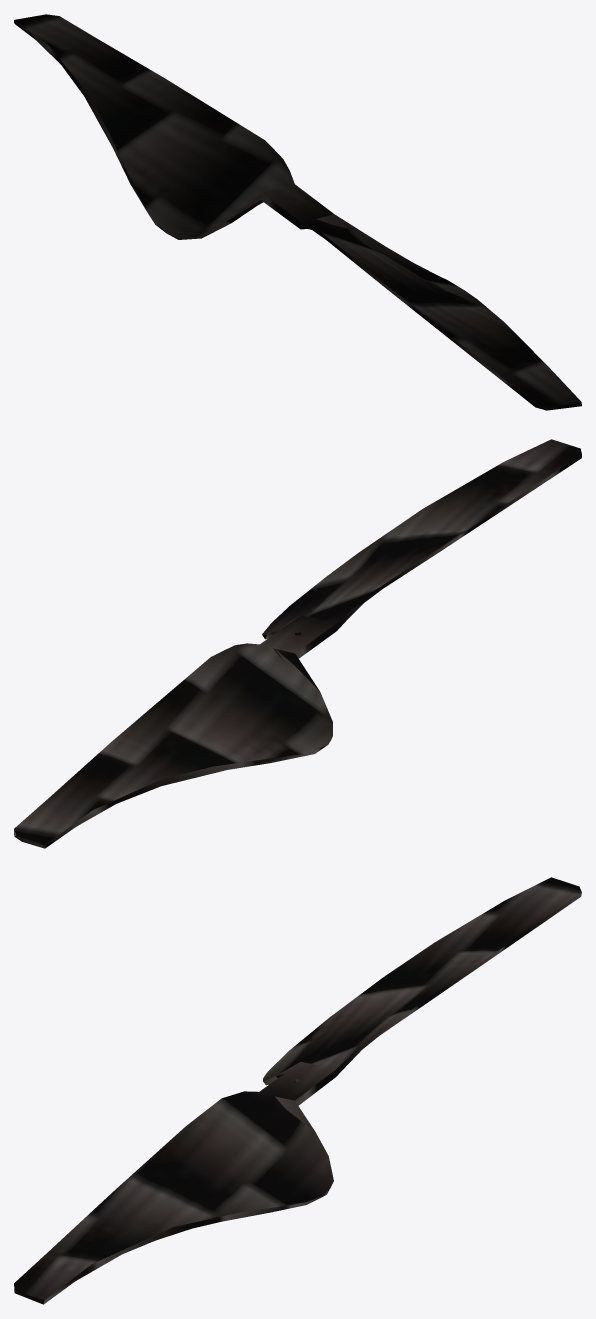
Rendered from propeller_top_textured.dae.
3 renders of one model, top to bottom at view 1: azimuth 30°, elevation 25°; view 2: azimuth 150°, elevation 25°; view 3: azimuth 330°, elevation 25°, orthographic. The views are drawn at different scales.
Parts seen in each view (by area): view 1: X8_out_of_box; view 2: X8_out_of_box; view 3: X8_out_of_box.
Part boxes in pixels (x1,y1,x2,y2): X8_out_of_box: [14, 14, 581, 410]; X8_out_of_box: [14, 439, 581, 848]; X8_out_of_box: [14, 877, 581, 1304].
Bounding box in the file's own units: 0.0838 × 0.476 × 0.0333.
Materials: 1 (1 with a texture image).
